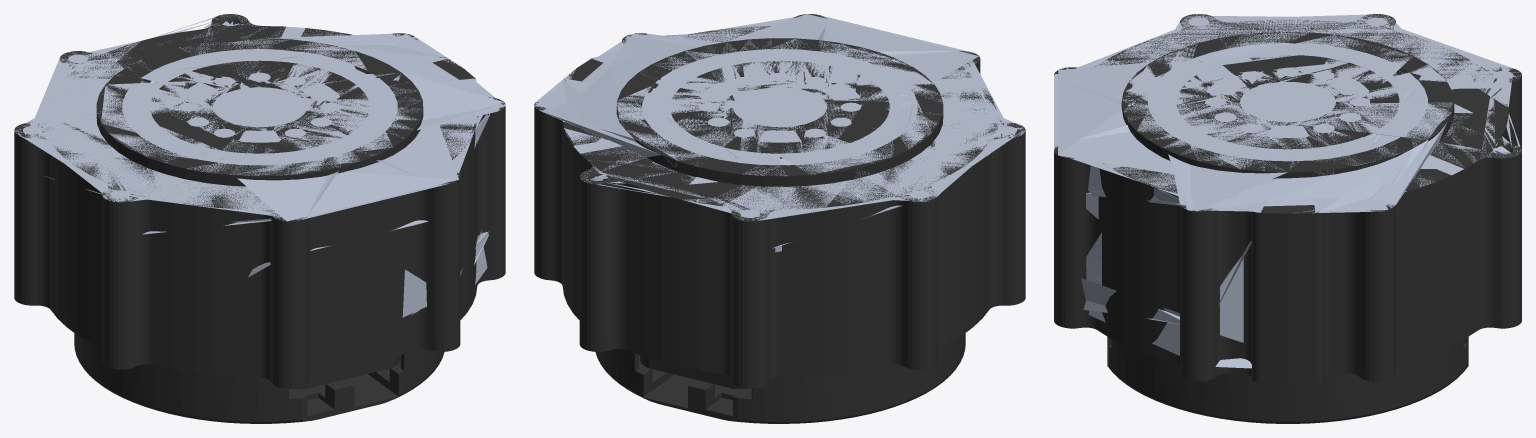
File: BL_scapula_link.dae
3 renders of one model, left to right at view 1: azimuth 30°, elevation 25°; view 2: azimuth 150°, elevation 25°; view 3: azimuth 270°, elevation 25°, orthographic.
Parts seen in each view (by area): view 1: node0, node1; view 2: node0, node1; view 3: node0, node1.
Part boxes in pixels (x1,y1,x2,y2): node0: [14, 14, 505, 423]; node1: [14, 14, 505, 317]; node0: [534, 14, 1025, 423]; node1: [534, 14, 1024, 252]; node0: [1054, 14, 1521, 423]; node1: [1054, 14, 1521, 368].
Size of the model in its own units: 0.0995 by 0.0566 by 0.0985.
